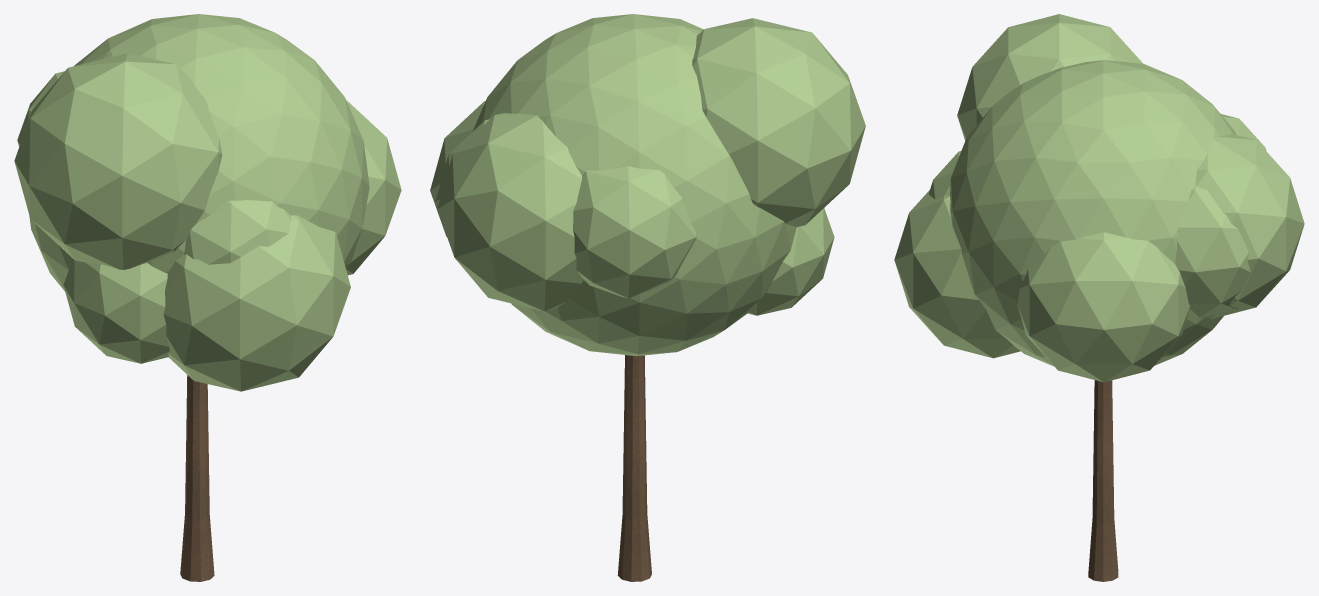
Rendered from tree_b.glb.
3 renders of one model, left to right at view 1: azimuth 30°, elevation 25°; view 2: azimuth 150°, elevation 25°; view 3: azimuth 270°, elevation 25°, orthographic. The views are drawn at different scales.
Visible parts, largest first — view 1: tree_b_leaf2, tree_b_bark; view 2: tree_b_leaf2, tree_b_bark; view 3: tree_b_leaf2, tree_b_bark.
Boxes of the visible parts, x1=… form: tree_b_leaf2: x1=14, y1=14, x2=401, y2=391; tree_b_bark: x1=180, y1=375, x2=214, y2=581; tree_b_leaf2: x1=430, y1=14, x2=865, y2=356; tree_b_bark: x1=617, y1=355, x2=651, y2=581; tree_b_leaf2: x1=894, y1=14, x2=1304, y2=382; tree_b_bark: x1=1088, y1=380, x2=1118, y2=581.
Size of the model in its own units: 4.62 by 6.38 by 4.66.
Materials: 2 (1 with a texture image).
